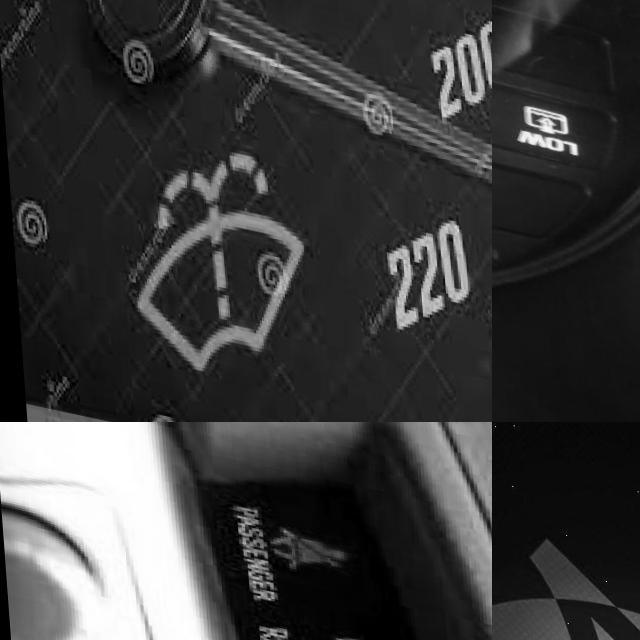Seat Belt: (492, 514, 640, 640), (262, 508, 343, 565)
